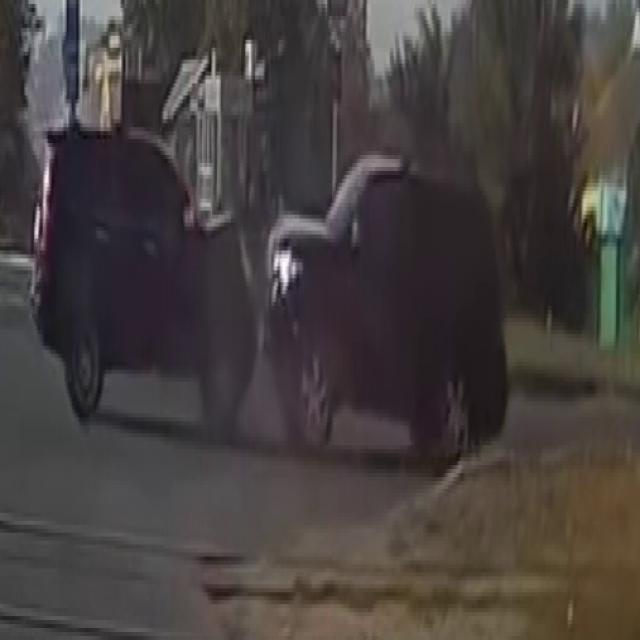accident: (90, 94, 459, 498)
